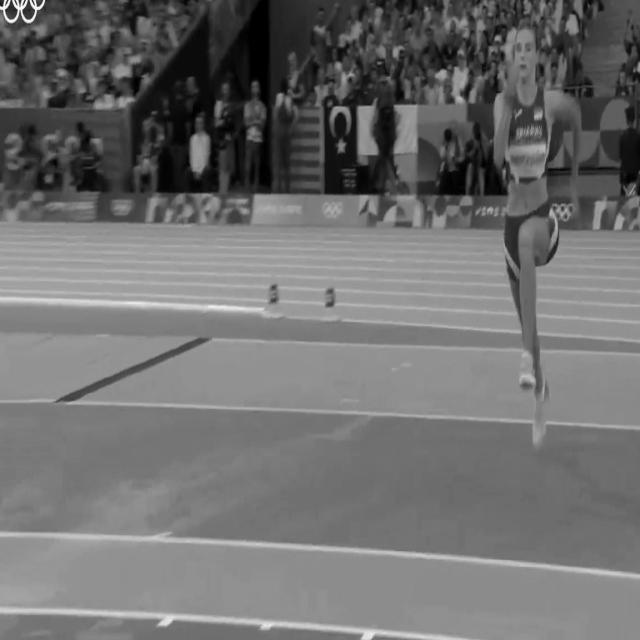run: (492, 17, 583, 448)
